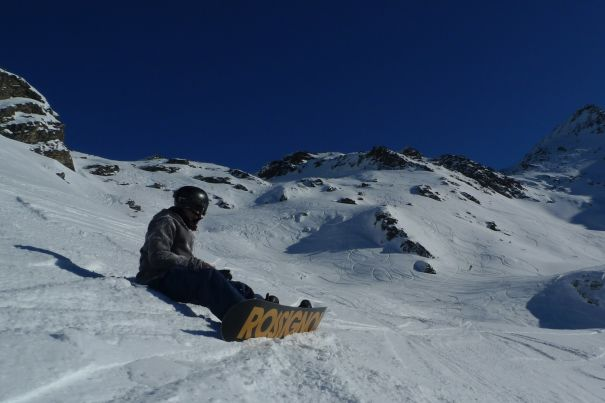snowboarder: (136, 186, 327, 340)
